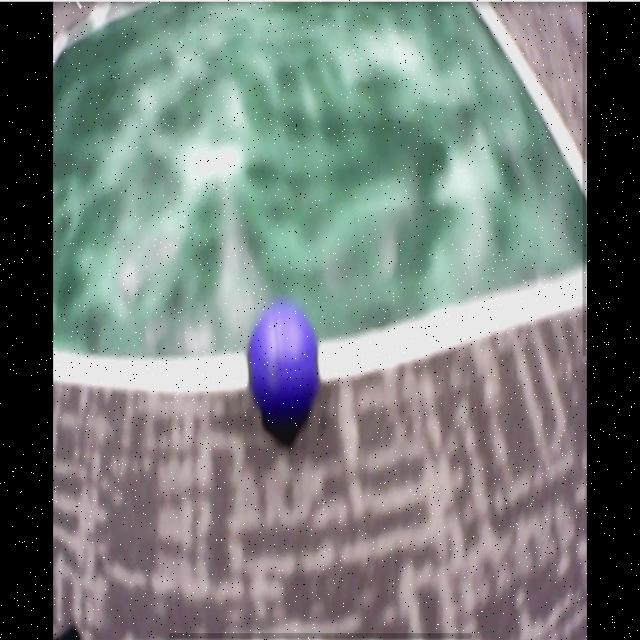ball: (249, 309, 319, 418)
